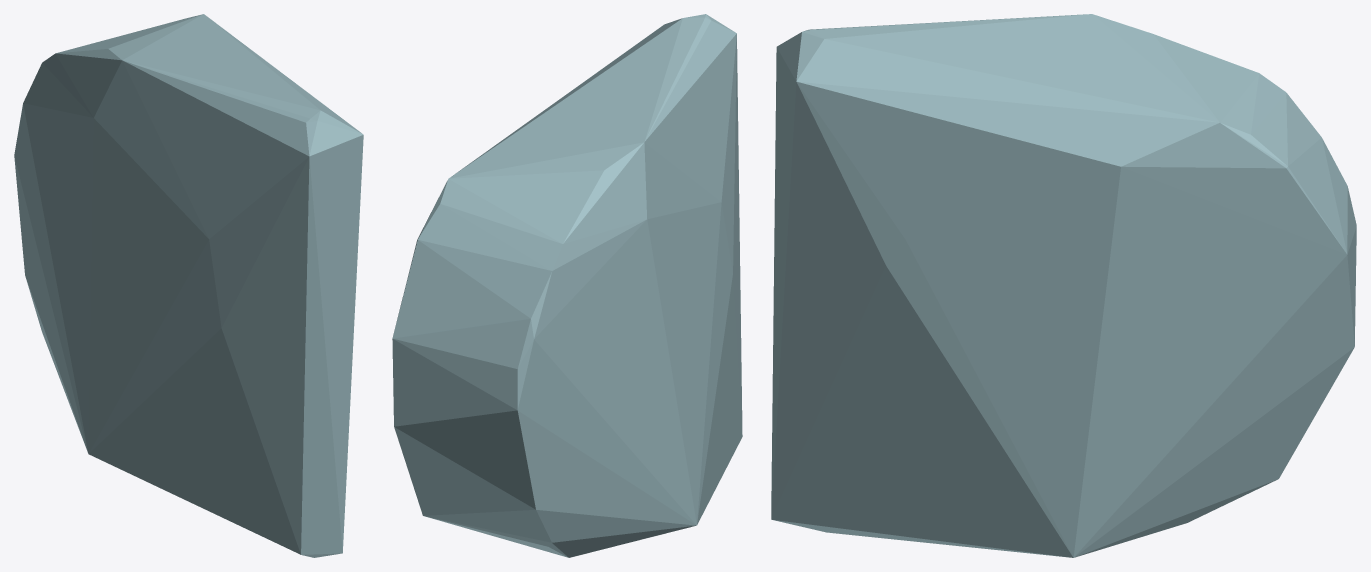
File: climate_shopFan_floorAxial_a01.glb
The picture shows the model from 3 angles, left to right: view 1: azimuth 30°, elevation 25°; view 2: azimuth 150°, elevation 25°; view 3: azimuth 270°, elevation 25°; orthographic projection. The views are drawn at different scales.
Parts seen in each view (by area): view 1: geometry_0; view 2: geometry_0; view 3: geometry_0.
Part boxes in pixels (x1,y1,x2,y2): geometry_0: (14,14,363,557); geometry_0: (392,14,742,557); geometry_0: (771,14,1356,557).
Bounding box in the file's own units: 0.2432 × 0.4397 × 0.4715.
